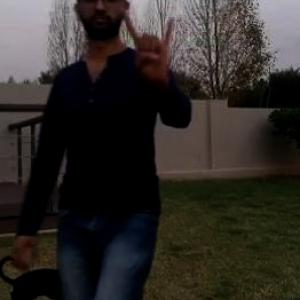takeoff-hand: (125, 9, 178, 88)
